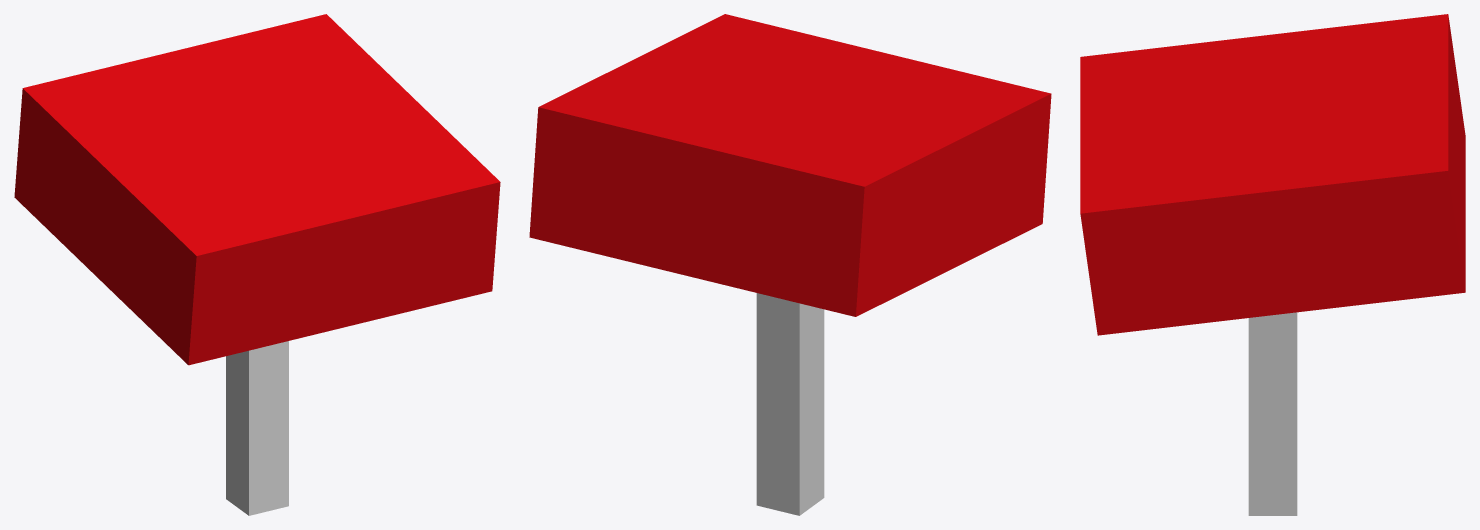
Rendered from mushroom.fbx.
3 views of the same model, side by side, from view 1: azimuth 30°, elevation 25°; view 2: azimuth 150°, elevation 25°; view 3: azimuth 270°, elevation 25° (orthographic). The views are drawn at different scales.
Parts seen in each view (by area): view 1: Cube; view 2: Cube; view 3: Cube.
Part boxes in pixels (<box>): Cube: <box>14,14,500,515</box>; Cube: <box>529,14,1051,515</box>; Cube: <box>1080,14,1465,515</box>.
Size of the model in its own units: 200 by 246 by 208.
